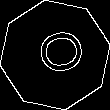O_W: (26, 29, 84, 81)
